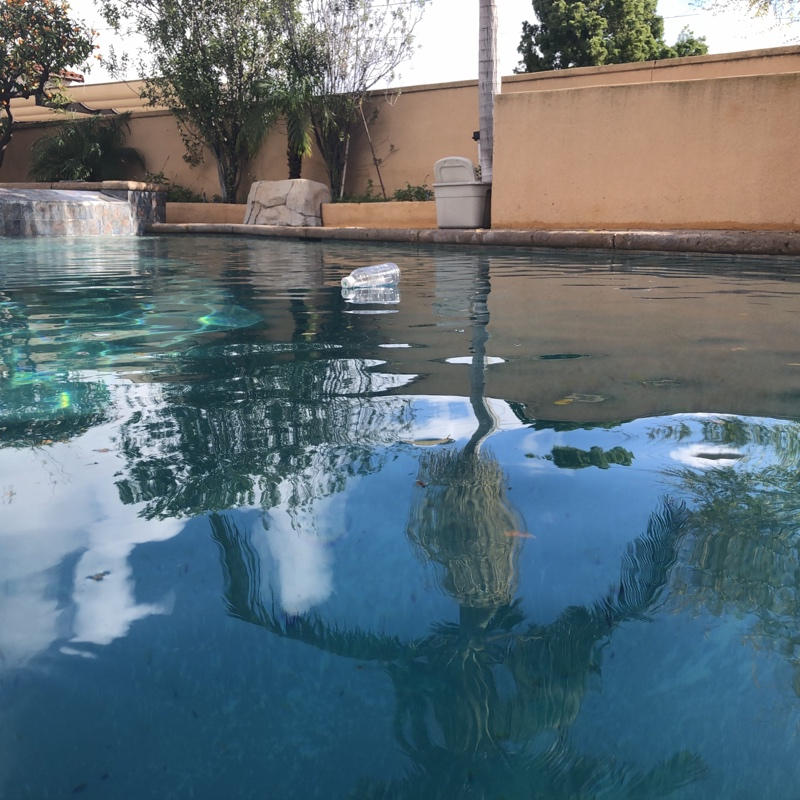Plastic Bottle: (340, 260, 398, 293)
